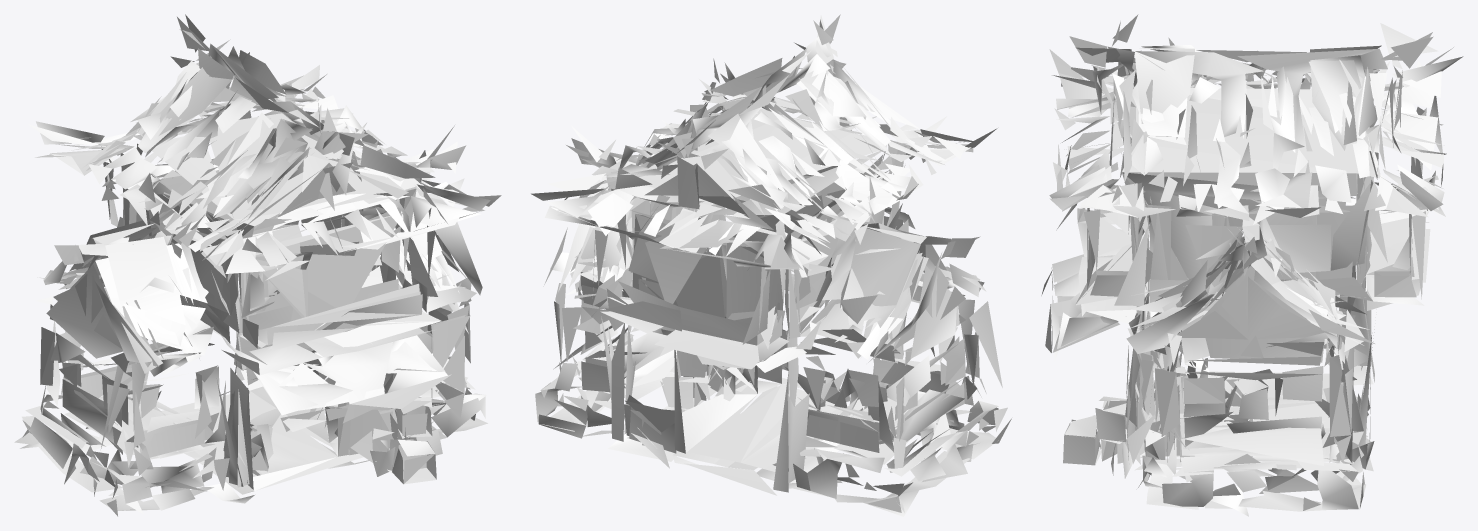
Rendered from house_shop_a_lod2.glb.
3 renders of one model, left to right at view 1: azimuth 30°, elevation 25°; view 2: azimuth 150°, elevation 25°; view 3: azimuth 270°, elevation 25°, orthographic. The views are drawn at different scales.
Parts seen in each view (by area): view 1: house_shop_a; view 2: house_shop_a; view 3: house_shop_a.
Part boxes in pixels (x1=…): house_shop_a: x1=14, y1=14, x2=501, y2=516; house_shop_a: x1=531, y1=14, x2=1011, y2=516; house_shop_a: x1=1041, y1=14, x2=1463, y2=516.
Bounding box in the file's own units: 10.2 × 9.35 × 8.46.
Materials: 1 (1 with a texture image).
